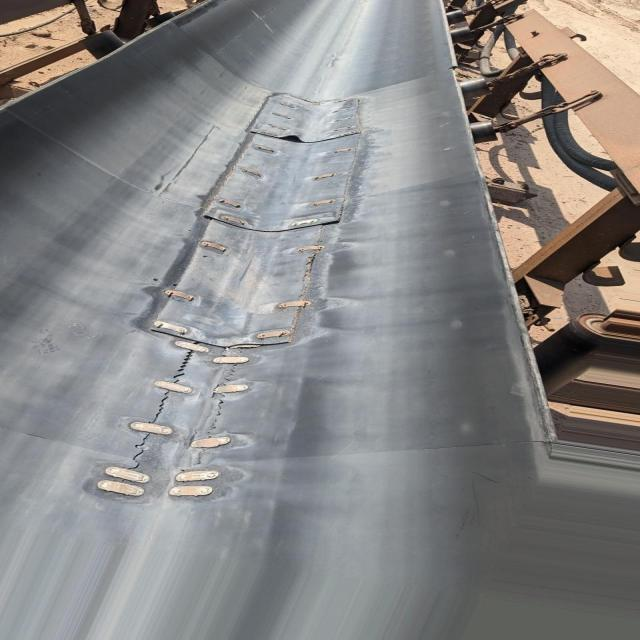patch work: (98, 90, 364, 505)
